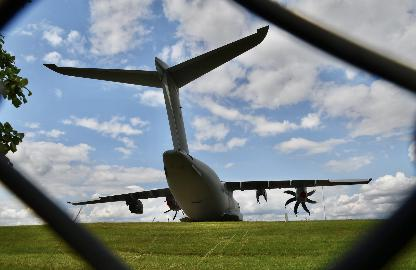A400M: (42, 23, 372, 221)
